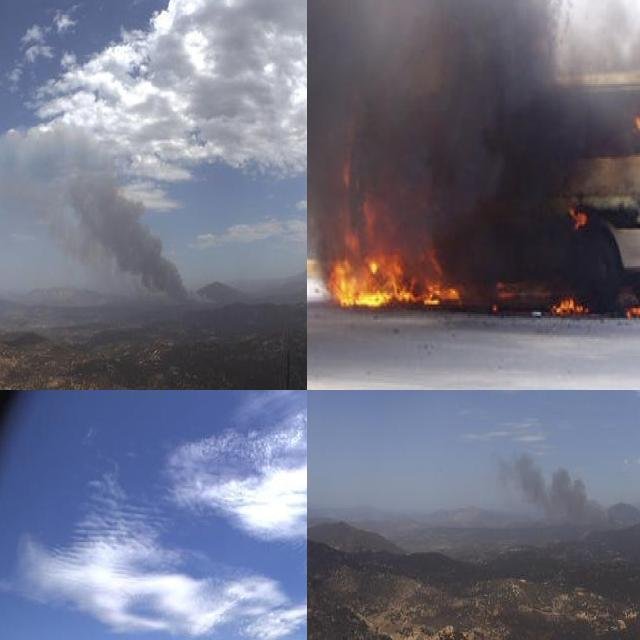fire: (319, 151, 463, 308), (546, 293, 589, 320), (561, 199, 587, 228), (623, 293, 640, 320)
smoke: (307, 0, 549, 218), (0, 124, 197, 316), (490, 444, 623, 548), (607, 0, 640, 101)
